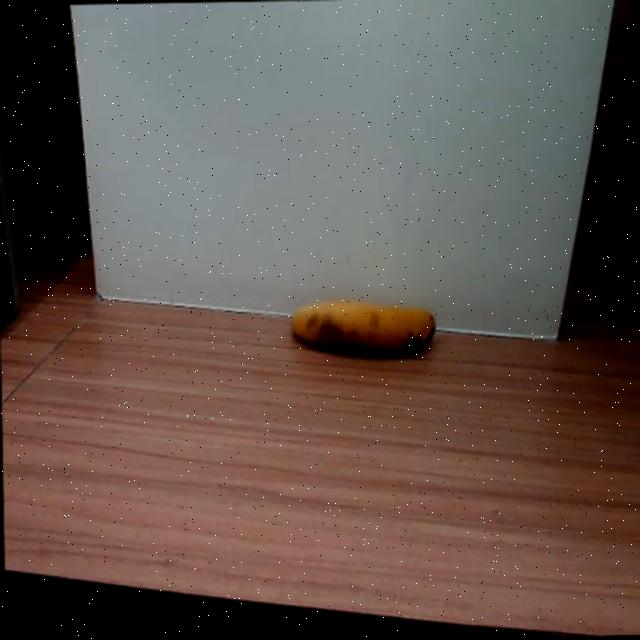Overripe: (287, 286, 442, 376)
